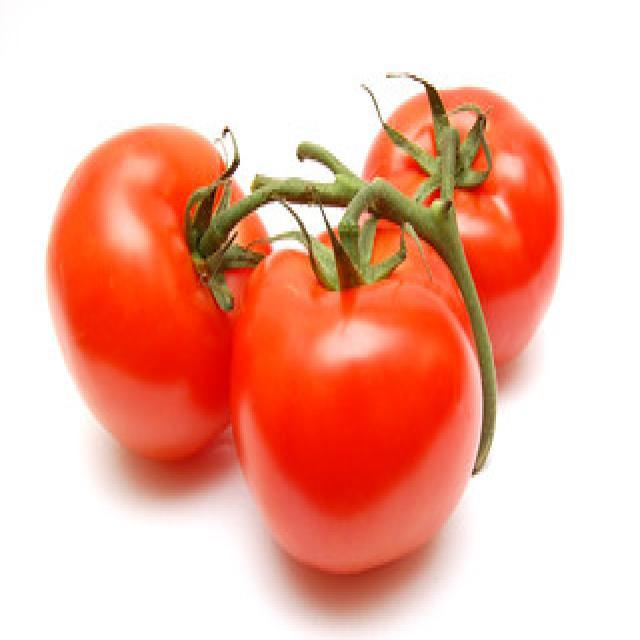kirmizi: (40, 54, 554, 588)
